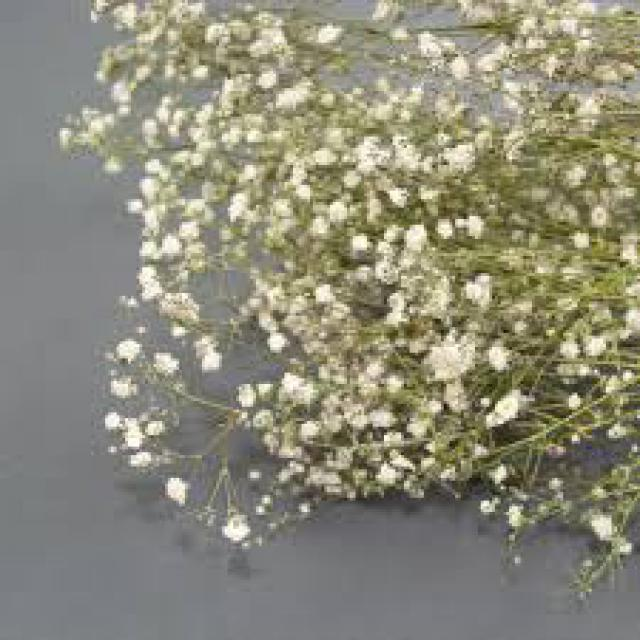gypsophila: (152, 85, 634, 321)
